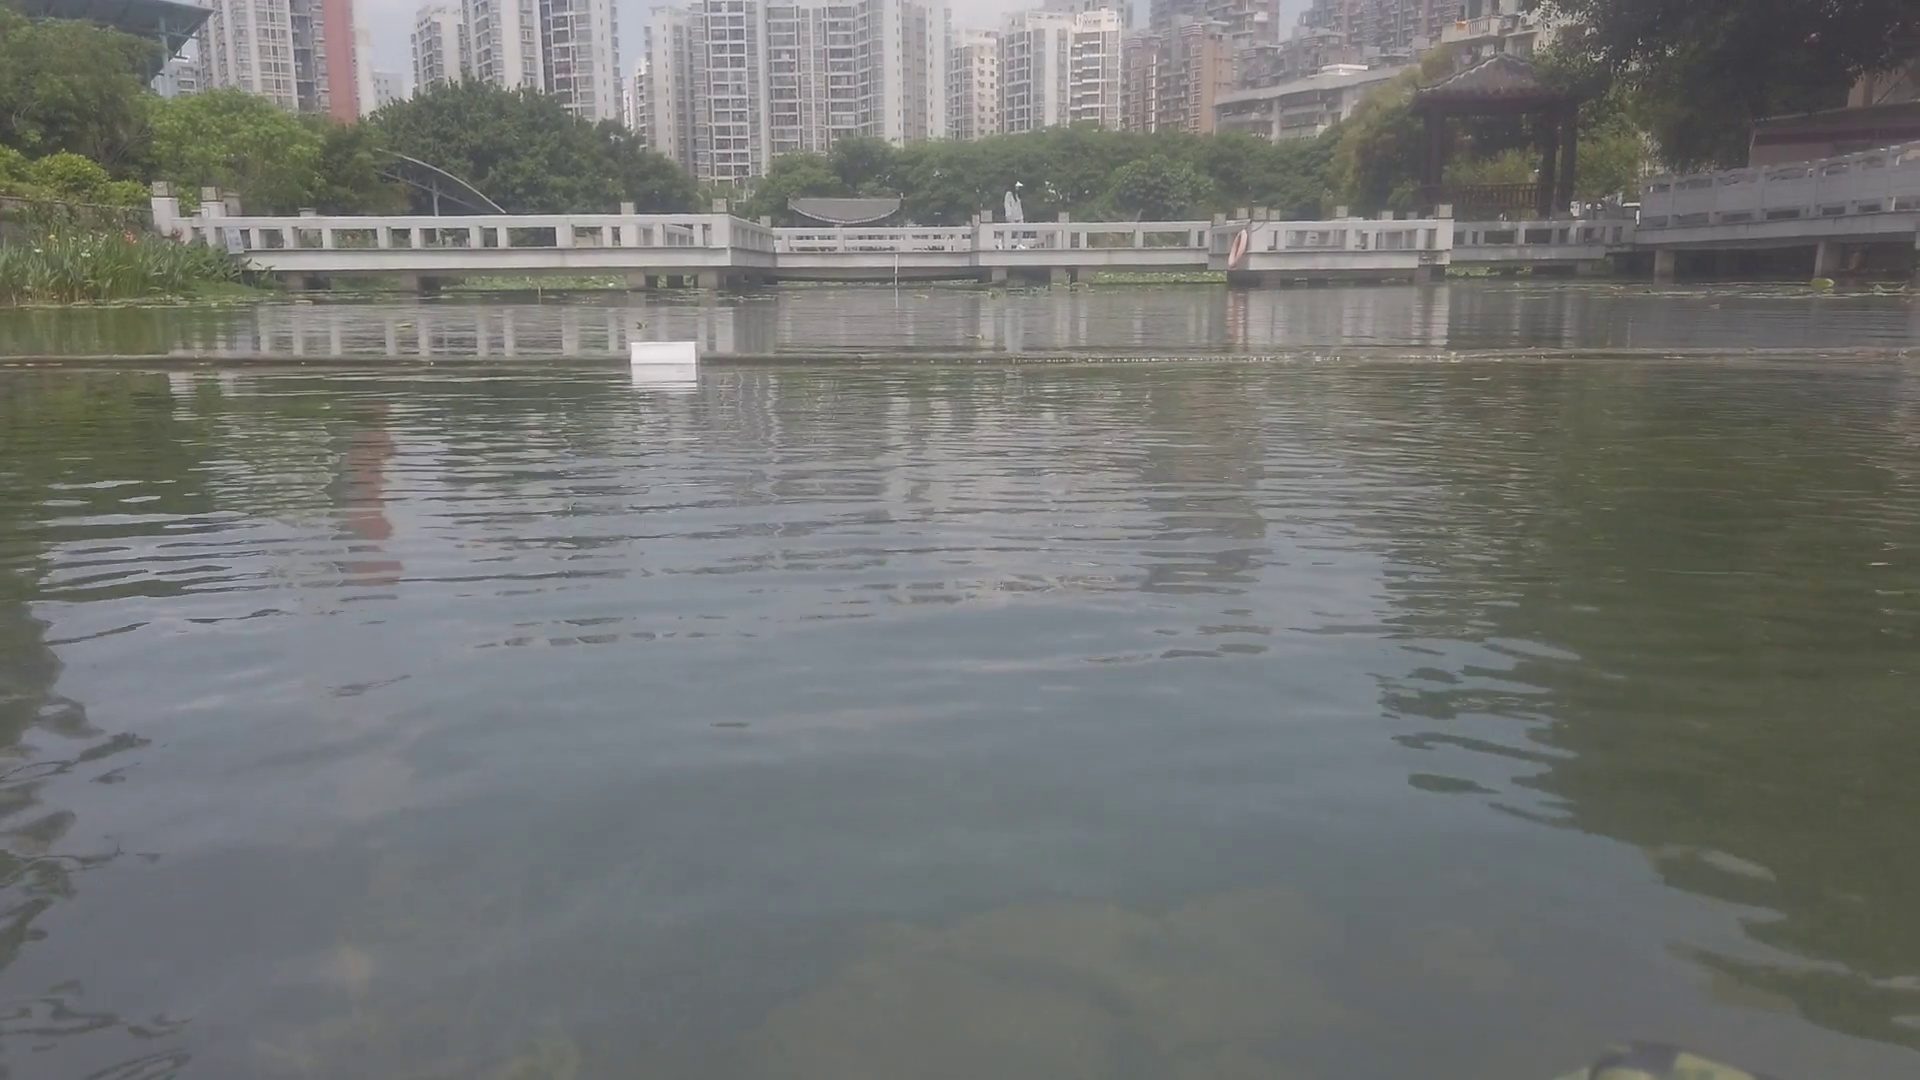carton: (624, 334, 705, 369)
